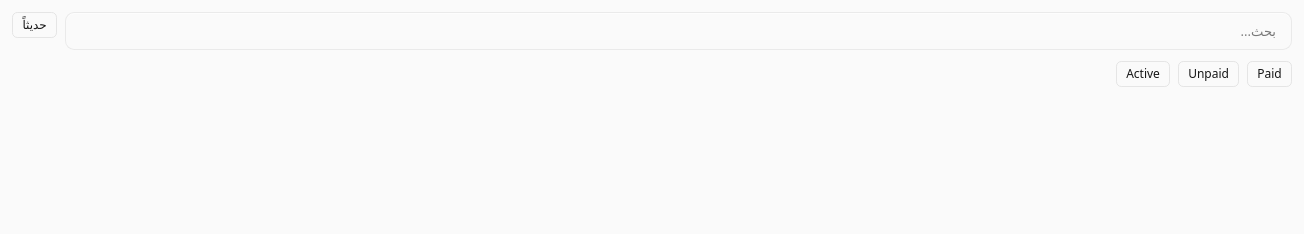
Test: AdvancedSearchBar › exposes a history dropdown that lists the last used filter sets
Click the button "حديثاً" at (35, 25), box left=12, top=12, right=57, bottom=38
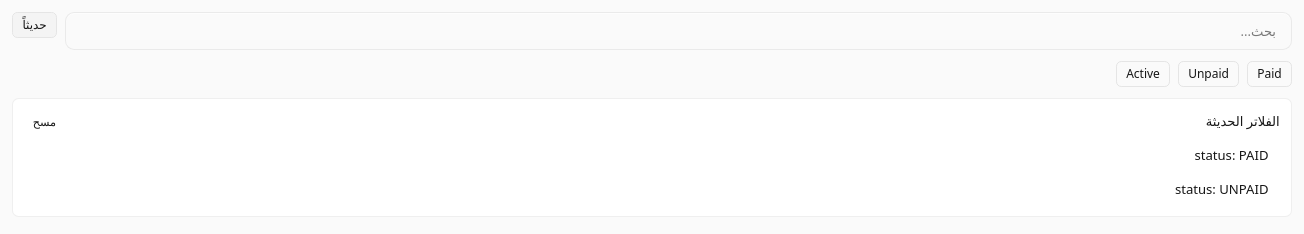
Expected: the button "status: PAID" is shown, left=24, top=140, right=1280, bottom=170
Expected: the button "status: UNPAID" is shown, left=24, top=174, right=1280, bottom=204
